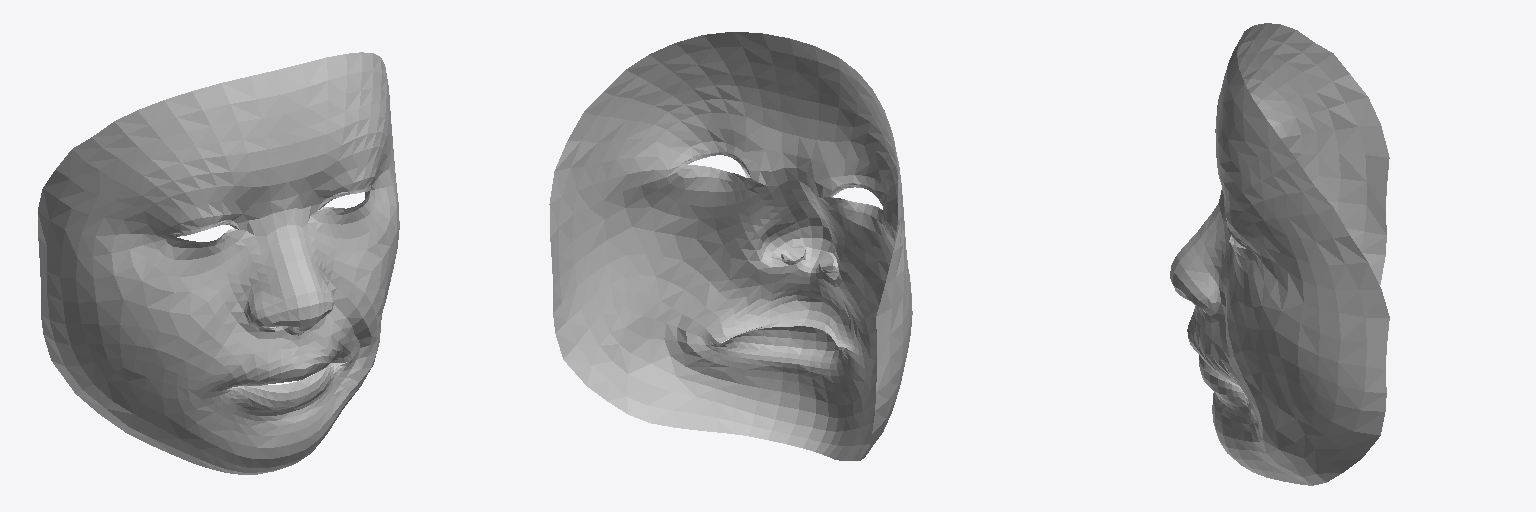
File: mouthStretch_L.obj
The picture shows the model from 3 angles: view 1: azimuth 30°, elevation 25°; view 2: azimuth 150°, elevation 25°; view 3: azimuth 270°, elevation 25°; orthographic projection.
Parts seen in each view (by area): view 1: default; view 2: default; view 3: default.
Boxes of the visible parts, x1=… form: default: x1=38, y1=52, x2=399, y2=474; default: x1=549, y1=32, x2=912, y2=460; default: x1=1170, y1=23, x2=1389, y2=485.
Bounding box in the file's own units: 0.1624 × 0.1851 × 0.0913.